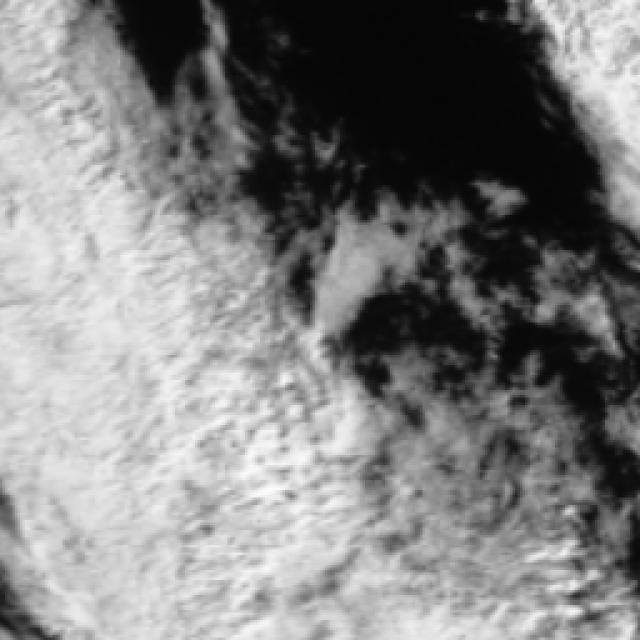CB: (3, 208, 147, 485)
